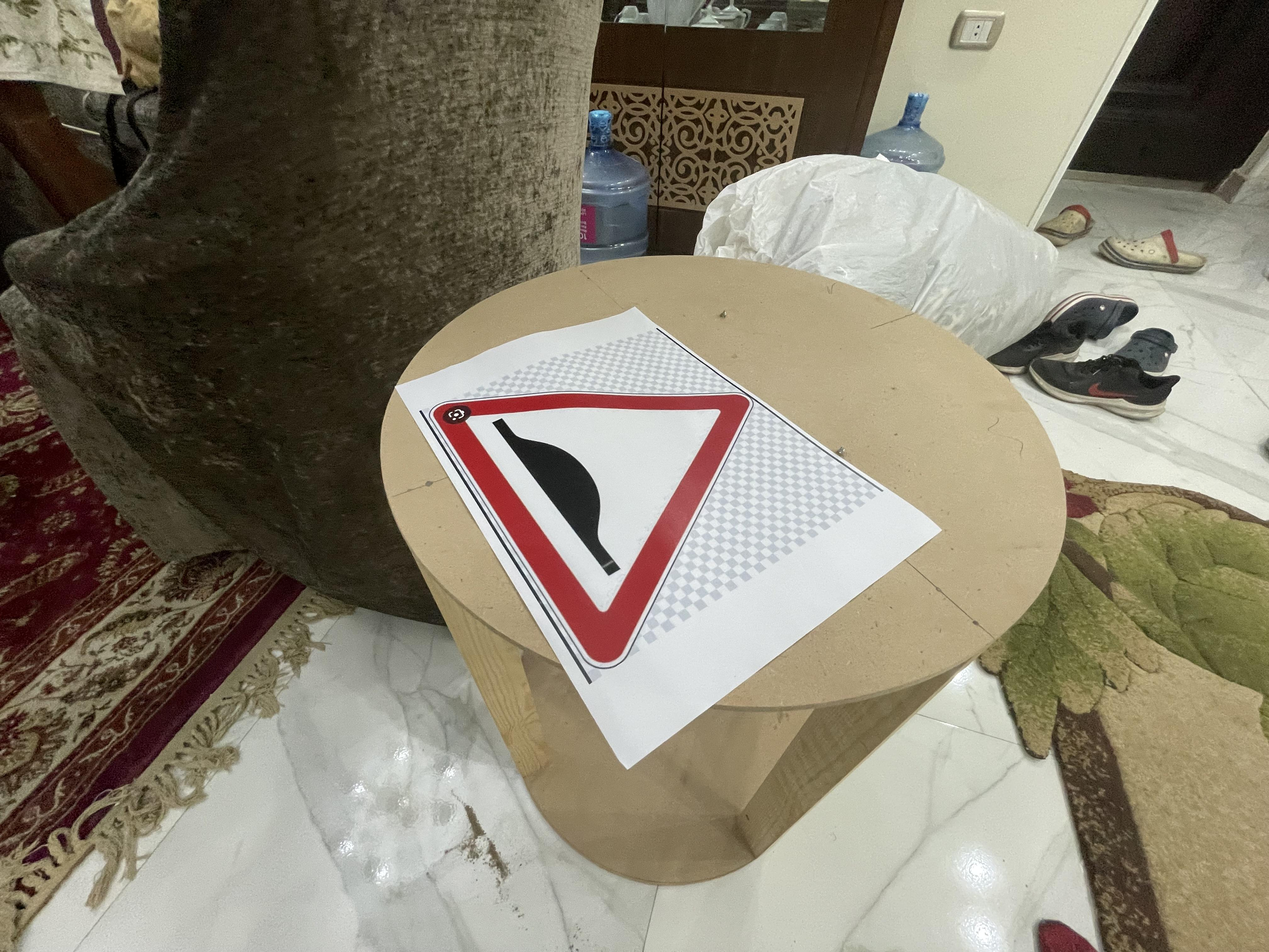Hump: (429, 377, 754, 667)
